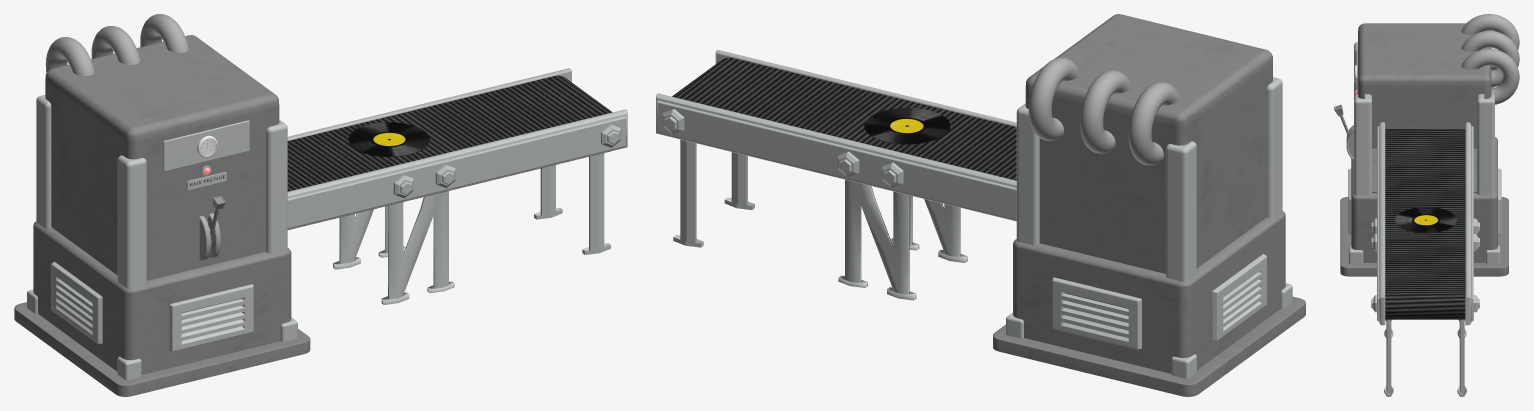
The model's file is modelo.glb.
3 views of the same model, side by side, from view 1: azimuth 30°, elevation 25°; view 2: azimuth 150°, elevation 25°; view 3: azimuth 270°, elevation 25° (orthographic). The views are drawn at different scales.
Parts seen in each view (by area): view 1: MachineBody_Top, MachineBody_Bottom, Belt, Side_PlateCover_01, Machine_Base, Leg_Double_01, Vent_03, Top_Corner_02, Top_Corner_01, Vent_02, Gauge_Holder_BackPlate, Vinyl_Cd_V2 (+9 smaller); view 2: MachineBody_Top, MachineBody_Bottom, Belt, Side_PlateCover_02, Machine_Base, Leg_Double_02, Vent_04, Top_Corner_04, Top_Corner_03, Vent_02, Vinyl_Cd_V2, Pipe_02 (+7 smaller); view 3: Belt, MachineBody_Top, MachineBody_Bottom, Machine_Base, Side_PlateCover_01, Side_PlateCover_02, Top_Corner_03, Top_Corner_01, Pipe_03, Vinyl_Cd_V2, Pipe_02, Pipe_01 (+10 smaller).
Boxes of the visible parts, box(x1,y1,x2,y2) form: MachineBody_Top: box(45, 35, 279, 280); MachineBody_Bottom: box(33, 221, 291, 374); Belt: box(287, 75, 612, 229); Side_PlateCover_01: box(287, 109, 627, 229); Machine_Base: box(14, 302, 310, 396); Leg_Double_01: box(381, 191, 454, 304); Vent_03: box(169, 284, 253, 351); Top_Corner_02: box(117, 155, 146, 288); Top_Corner_01: box(266, 120, 287, 253); Vent_02: box(51, 261, 102, 344); Gauge_Holder_BackPlate: box(163, 120, 249, 171); Vinyl_Cd_V2: box(348, 122, 429, 156); MachineBody_Top: box(1025, 14, 1272, 273); MachineBody_Bottom: box(1013, 211, 1285, 373); Belt: box(672, 57, 1016, 180); Side_PlateCover_02: box(656, 93, 1016, 221); Machine_Base: box(993, 296, 1305, 396); Leg_Double_02: box(838, 179, 916, 300); Vent_04: box(1052, 277, 1141, 349); Top_Corner_04: box(1166, 141, 1196, 282); Top_Corner_03: box(1016, 103, 1039, 245); Vent_02: box(1212, 254, 1266, 341); Vinyl_Cd_V2: box(864, 107, 950, 144); Pipe_02: box(1080, 70, 1131, 153); Belt: box(1385, 129, 1465, 319); MachineBody_Top: box(1358, 23, 1491, 192); MachineBody_Bottom: box(1351, 137, 1497, 262); Machine_Base: box(1340, 197, 1508, 276); Side_PlateCover_01: box(1377, 122, 1385, 325); Side_PlateCover_02: box(1465, 122, 1473, 325); Top_Corner_03: box(1477, 94, 1494, 195); Top_Corner_01: box(1354, 94, 1371, 195); Pipe_03: box(1461, 49, 1519, 104); Vinyl_Cd_V2: box(1395, 207, 1456, 233); Pipe_02: box(1461, 31, 1519, 87); Pipe_01: box(1461, 14, 1519, 70).
Size of the model in its own units: 389 by 192 by 155.
25 materials, 25 textured.
